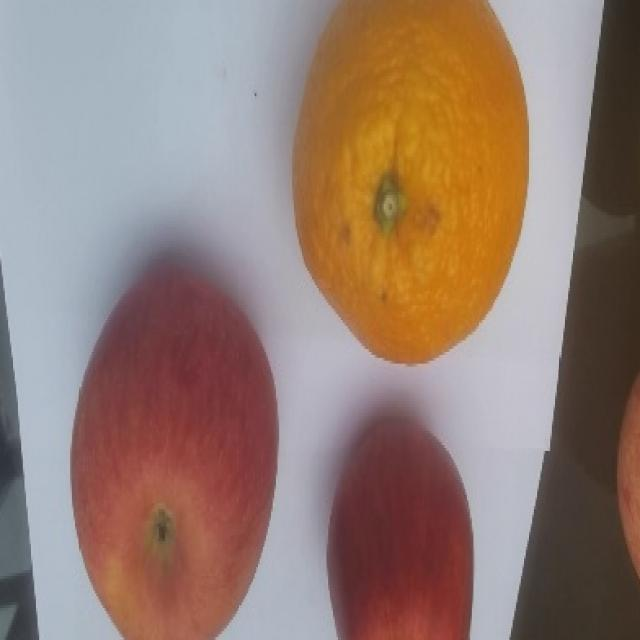Apple: (69, 258, 279, 639), (325, 414, 474, 639)
Orange: (290, 0, 530, 365)
